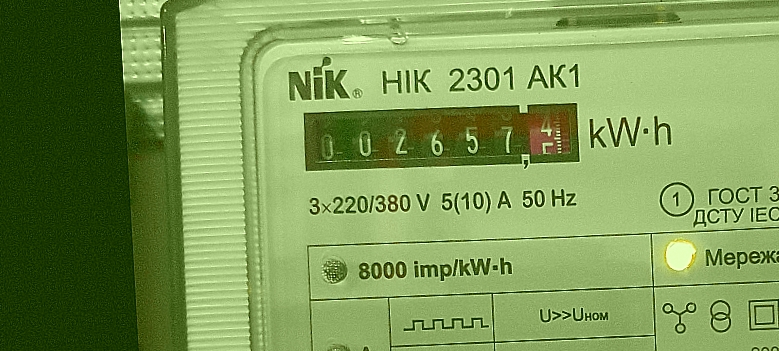0: (356, 126, 373, 157), (318, 131, 336, 160)
2: (392, 125, 409, 155)
4: (538, 110, 554, 136)
5: (463, 123, 481, 155), (540, 139, 556, 154)
6: (428, 126, 444, 156)
7: (499, 122, 516, 154)
screen: (293, 85, 592, 188)
